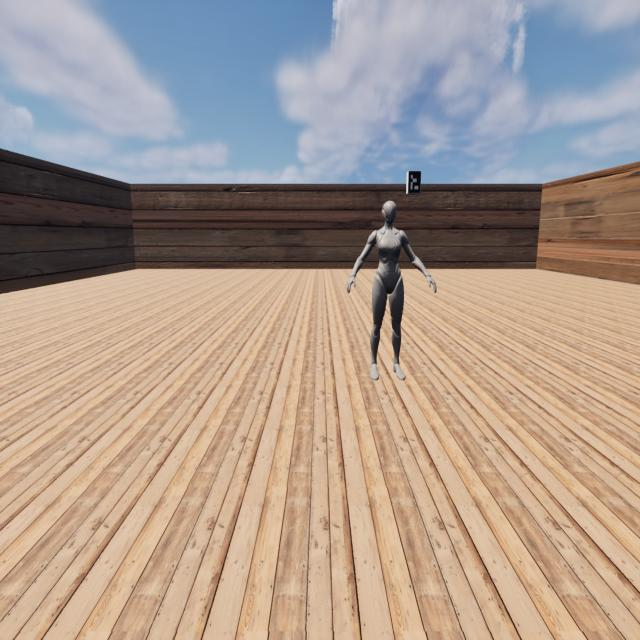aruco: (408, 170, 421, 194)
hip: (373, 274, 404, 287)
